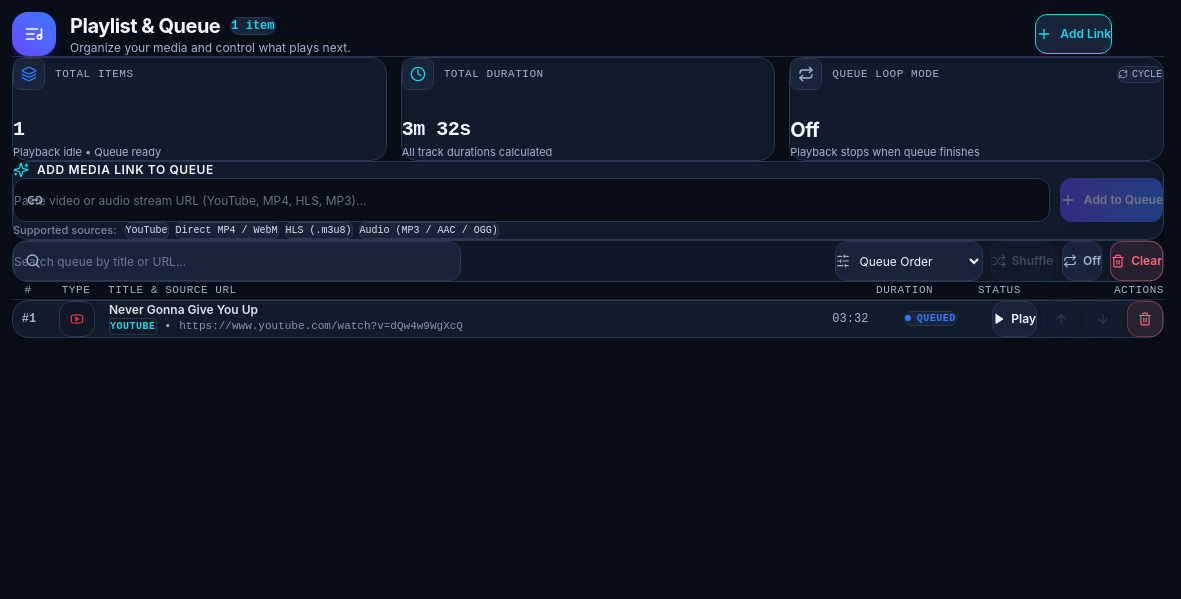
Test: PlaylistScreen UI Redesign › displays clear confirmation and clears queue when confirmed
Click the button "Clear".
click(1137, 261)  # box left=1110, top=241, right=1163, bottom=281
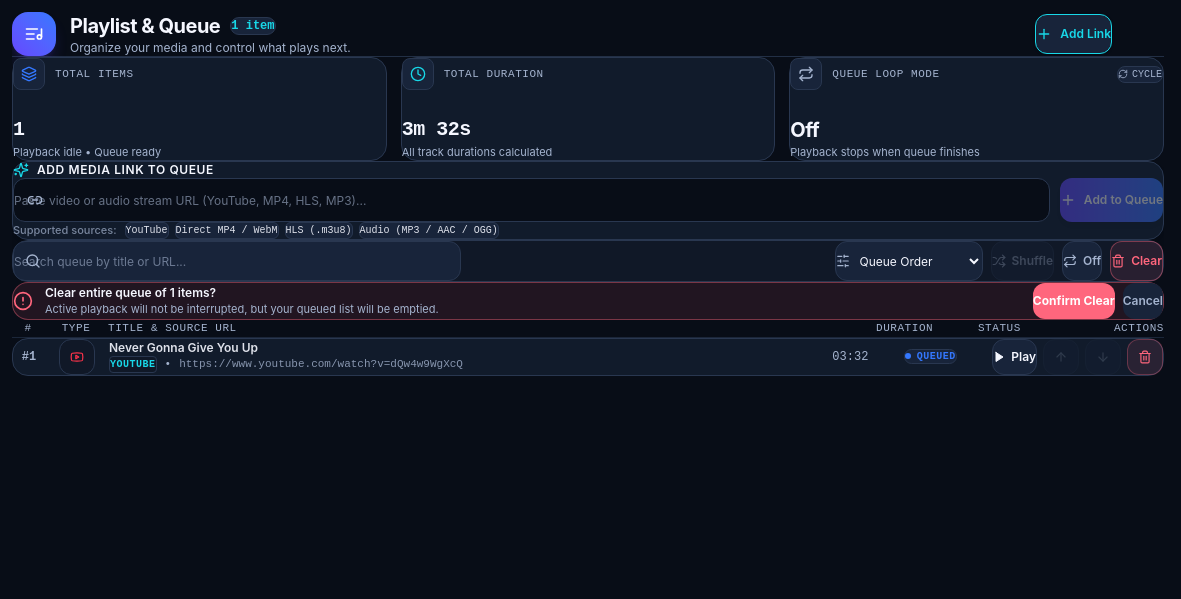
Expected: the text "Clear entire queue of 1 items?" is shown, left=45, top=285, right=216, bottom=300
Click the button "Confirm Clear".
click(1074, 301)  # box left=1033, top=283, right=1115, bottom=319
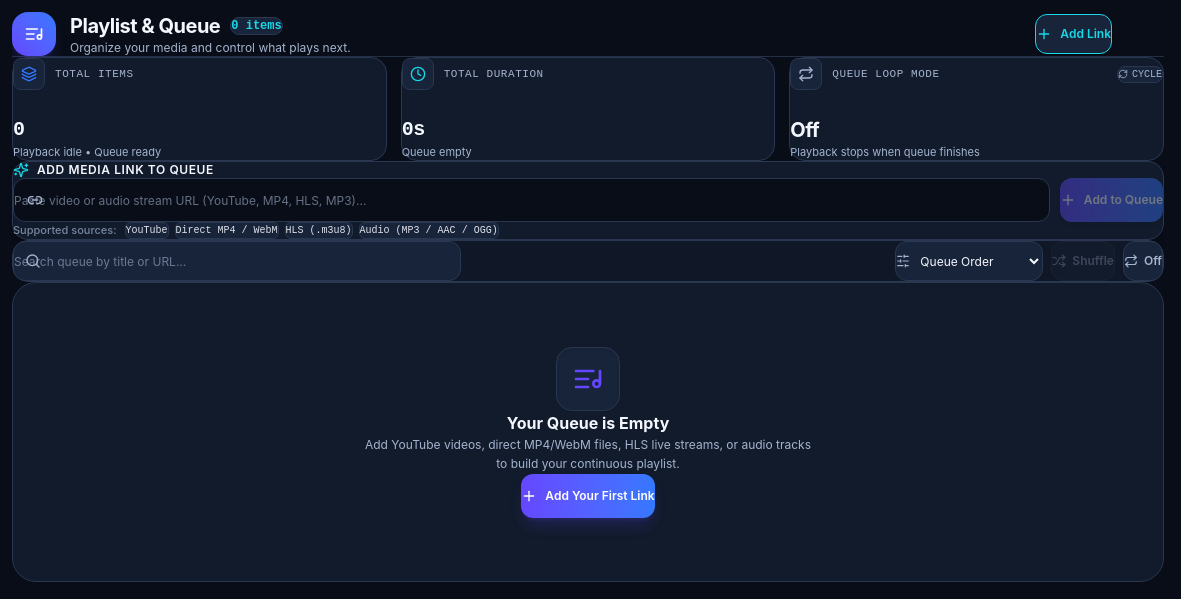
Expected: the heading "Your Queue is Empty" is shown, left=507, top=412, right=669, bottom=432
